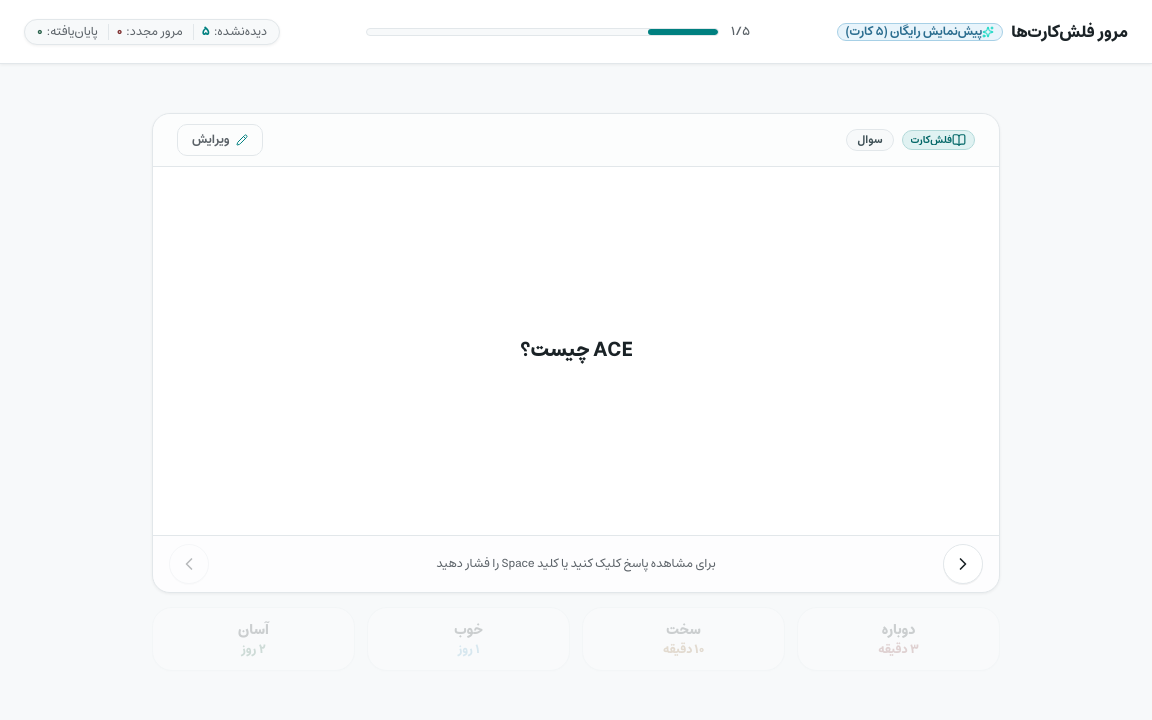
Test case: Pre-Purchase Course Preview & Free Access UI QA Verification › QA Step 6: Flashcards tab provides exactly 5 preview flashcards and end-of-preview purchase CTA
Expected: the text "پیش‌نمایش رایگان (۵ کارت)" is shown, [846, 26, 994, 38]
Note: Flip first card
Click the text "ACE چیست؟": {"x": 557, "y": 350} [520, 333, 632, 368]
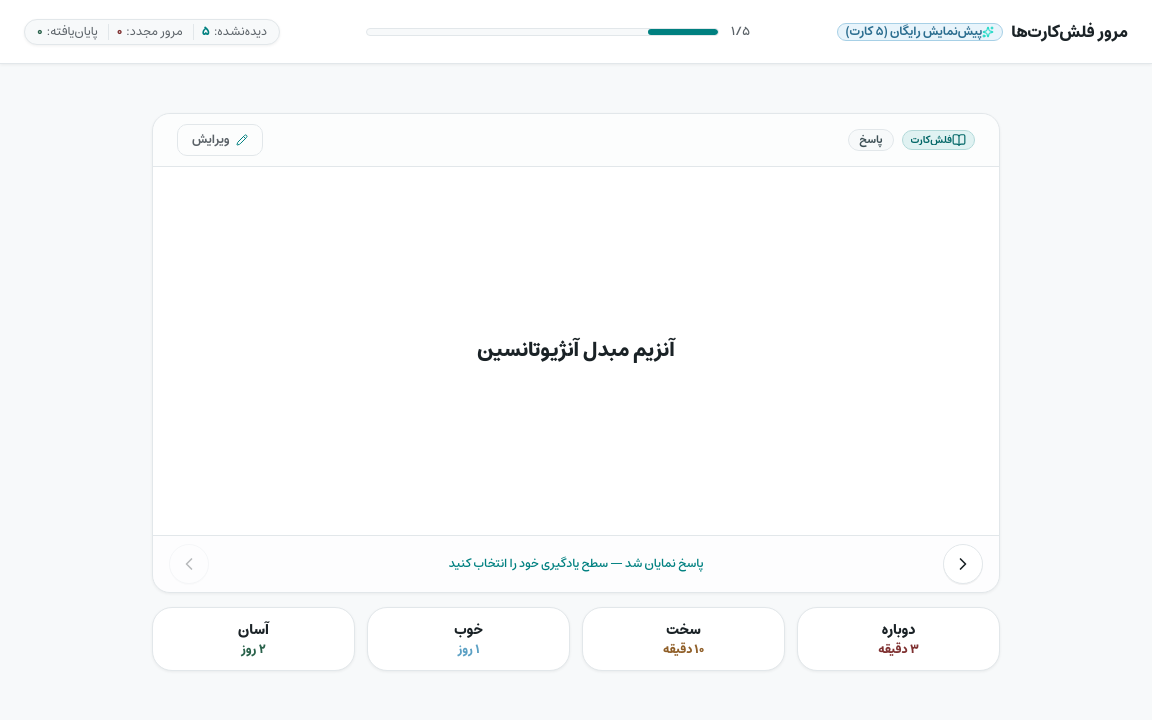
Now the text "آنزیم مبدل آنژیوتانسین" is shown, box [477, 333, 675, 368]
Note: Rate good to advance
Click the button "خوب ۱ روز": {"x": 468, "y": 639} [367, 607, 570, 671]
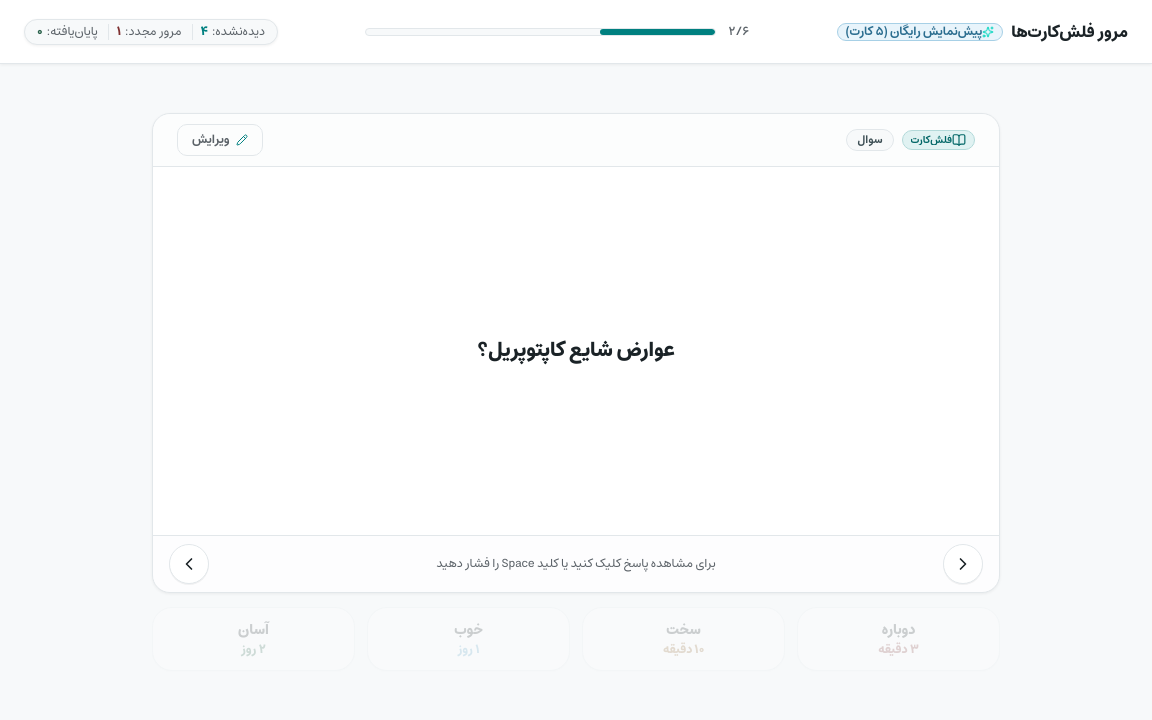
Now the text "عوارض شایع کاپتوپریل؟" is shown, box [477, 333, 675, 368]
